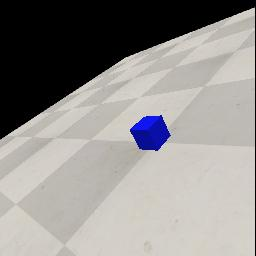box: (130, 115, 171, 151)
